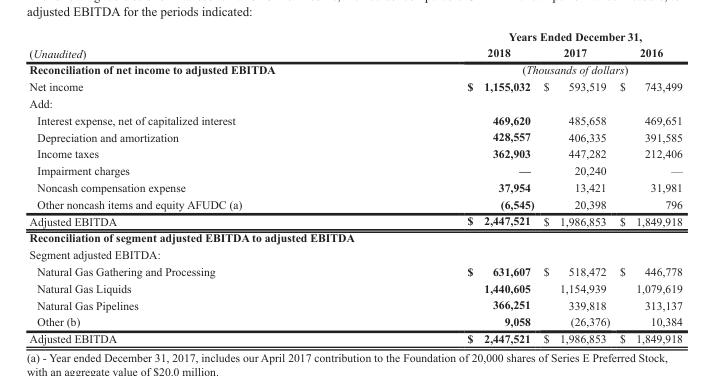table: (28, 29, 681, 344)
table column: (28, 29, 370, 344), (370, 29, 538, 344), (538, 29, 614, 344), (614, 29, 681, 344)
table column header: (28, 29, 681, 60)
table projected row header: (28, 94, 681, 111), (28, 228, 681, 245), (28, 245, 681, 262)
table row: (28, 60, 681, 77), (28, 77, 681, 94), (28, 94, 681, 111), (28, 111, 681, 128), (28, 144, 681, 161), (28, 161, 681, 178), (28, 178, 681, 195), (28, 195, 681, 212), (28, 228, 681, 245), (28, 245, 681, 262), (28, 262, 681, 279), (28, 279, 681, 296), (28, 312, 681, 329), (28, 44, 681, 60), (28, 128, 681, 144), (28, 212, 681, 228), (28, 296, 681, 312), (28, 29, 681, 44), (28, 329, 681, 344)
table spanning cell: (28, 29, 370, 60), (370, 60, 681, 77), (370, 29, 681, 44)
